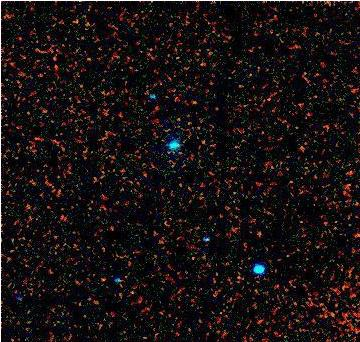star: (81, 264, 111, 294)
